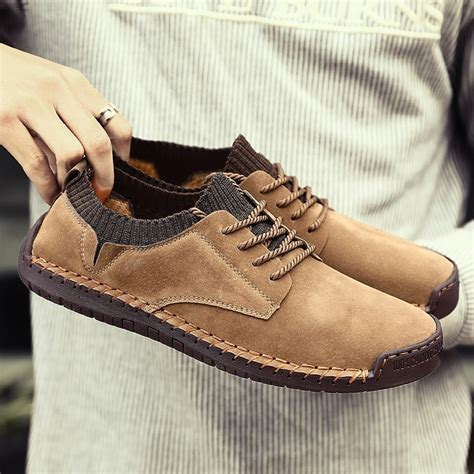gamuza: (29, 127, 453, 369)
